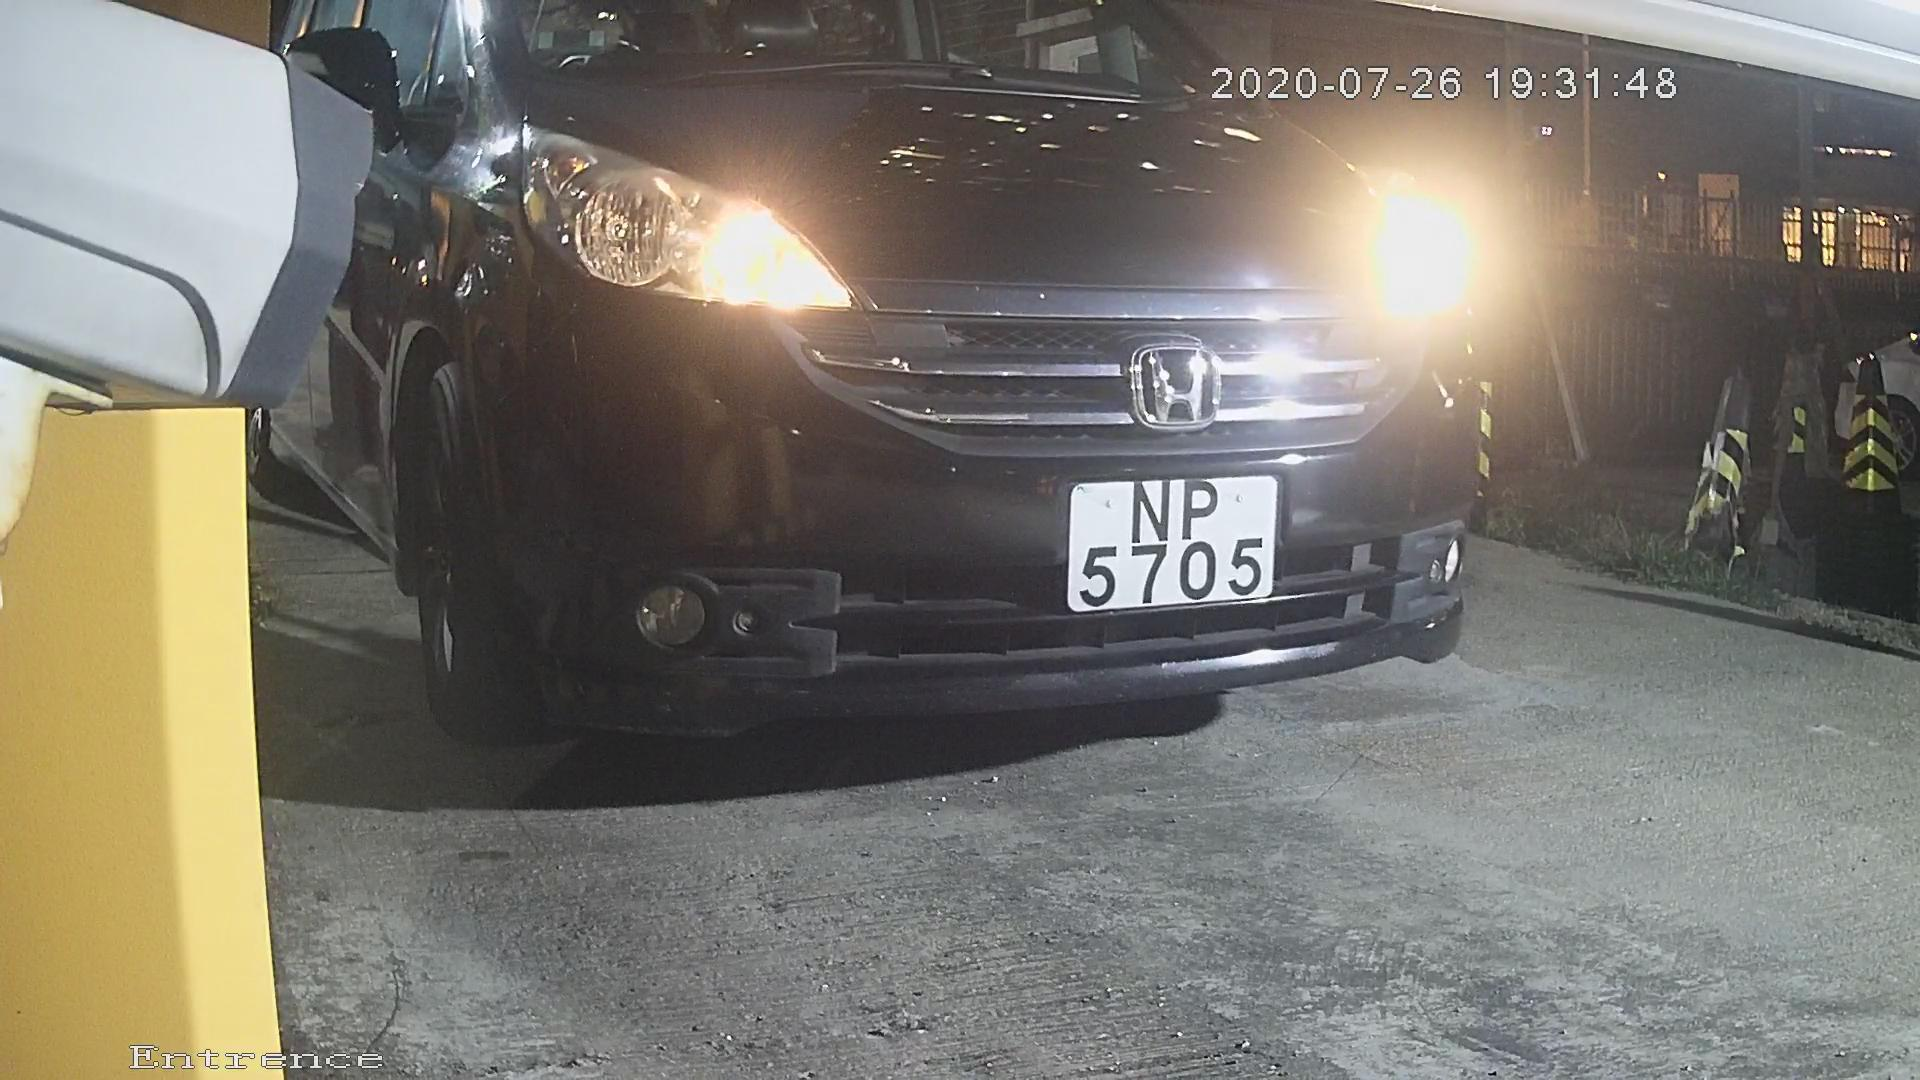Car: (121, 44, 1663, 835)
License Plate: (1029, 454, 1303, 632)
